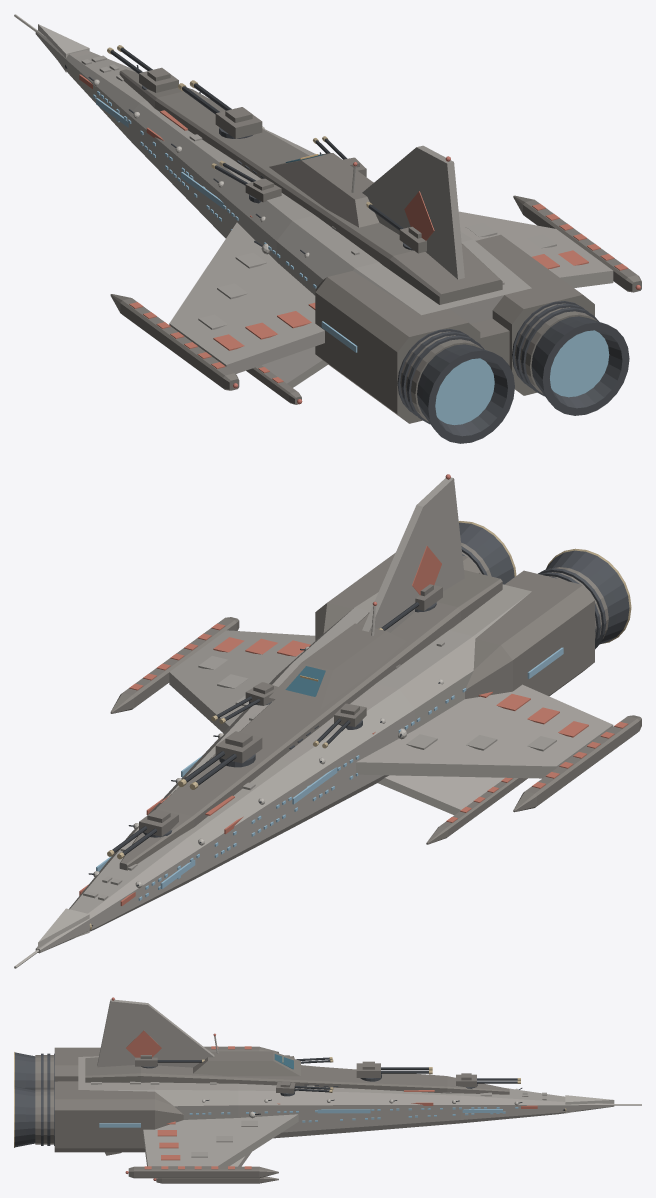
File: rayzine-talon.glb
The picture shows the model from 3 angles, top to bottom: view 1: azimuth 30°, elevation 25°; view 2: azimuth 150°, elevation 25°; view 3: azimuth 270°, elevation 25°; orthographic projection. The views are drawn at different scales.
Parts seen in each view (by area): view 1: main_hull_000, wing_000, drive_pod_000, upper_deck_000, engine_bell_000, dorsal_fin_000, engine_glow_000, missile_pod_000, command_block_000, engine_band_000, turret_housing_000, engine_housing_000 (+9 smaller); view 2: main_hull_000, wing_000, drive_pod_000, upper_deck_000, dorsal_fin_000, missile_pod_000, command_block_000, engine_bell_000, turret_housing_000, accent_stripe_000, hull_plate_000, rail_barrel_000 (+8 smaller); view 3: main_hull_000, drive_pod_000, upper_deck_000, wing_000, dorsal_fin_000, missile_pod_000, command_block_000, engine_bell_000, engine_housing_000, turret_housing_000, rail_barrel_000, engine_band_000 (+7 smaller).
Part boxes in pixels (x1,y1,x2,y2): main_hull_000: [35, 30, 531, 323]; wing_000: [169, 211, 613, 387]; drive_pod_000: [315, 234, 594, 423]; upper_deck_000: [119, 69, 502, 304]; engine_bell_000: [417, 316, 629, 443]; dorsal_fin_000: [362, 145, 464, 279]; engine_glow_000: [435, 330, 609, 425]; missile_pod_000: [110, 195, 641, 404]; command_block_000: [269, 153, 379, 227]; engine_band_000: [397, 301, 599, 424]; turret_housing_000: [139, 67, 426, 253]; engine_housing_000: [400, 303, 596, 421]; main_hull_000: [35, 584, 531, 953]; wing_000: [169, 630, 613, 815]; drive_pod_000: [315, 552, 594, 698]; upper_deck_000: [119, 570, 502, 870]; dorsal_fin_000: [362, 477, 464, 632]; missile_pod_000: [110, 617, 641, 844]; command_block_000: [269, 623, 406, 709]; engine_bell_000: [459, 522, 629, 644]; turret_housing_000: [139, 584, 442, 836]; accent_stripe_000: [79, 637, 588, 905]; hull_plate_000: [83, 612, 556, 900]; rail_barrel_000: [112, 602, 419, 855]; main_hull_000: [78, 1056, 614, 1138]; drive_pod_000: [54, 1047, 183, 1152]; upper_deck_000: [85, 1057, 509, 1094]; wing_000: [143, 1051, 298, 1166]; dorsal_fin_000: [97, 999, 214, 1067]; missile_pod_000: [128, 1046, 278, 1183]; command_block_000: [193, 1051, 300, 1076]; engine_bell_000: [15, 1052, 35, 1147]; engine_housing_000: [35, 1055, 53, 1144]; turret_housing_000: [135, 1055, 476, 1093]; rail_barrel_000: [157, 1057, 517, 1092]; engine_band_000: [41, 1053, 54, 1145].
Size of the model in its own units: 2.11 by 1.25 by 4.51.
